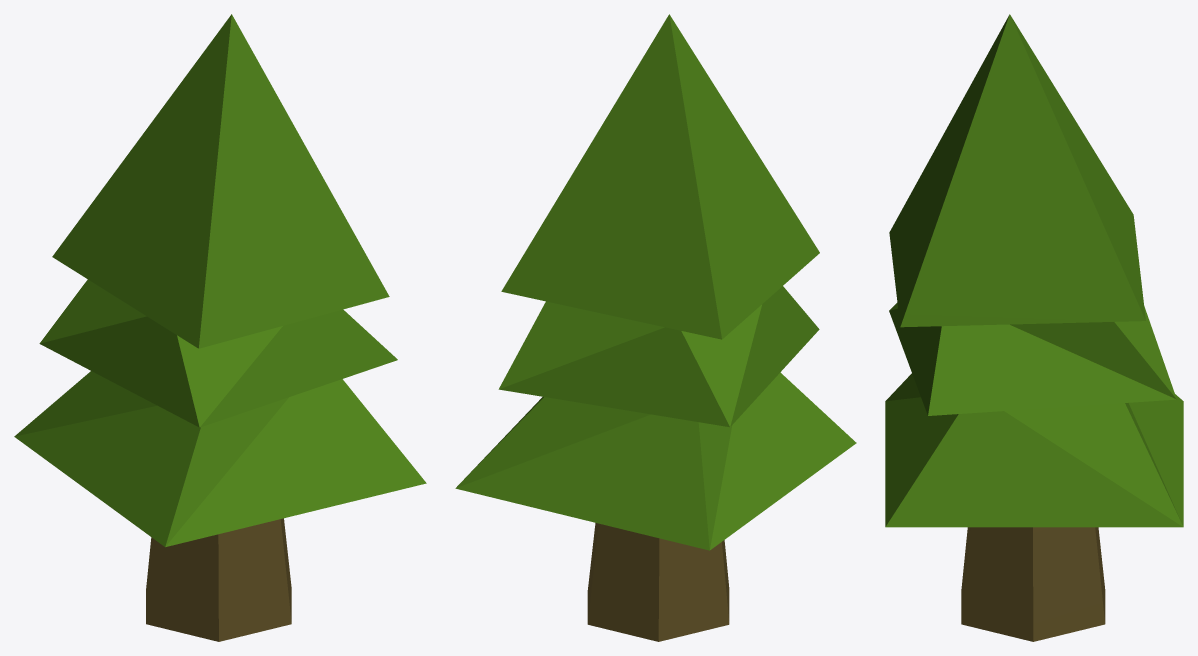
The model's file is Vegetation_Tree_Pine_Spring_01.fbx.
The picture shows the model from 3 angles, left to right: view 1: azimuth 30°, elevation 25°; view 2: azimuth 150°, elevation 25°; view 3: azimuth 270°, elevation 25°; orthographic projection. The views are drawn at different scales.
Visible parts, largest first — view 1: Vegetation_Tree_Pine_Spring_01; view 2: Vegetation_Tree_Pine_Spring_01; view 3: Vegetation_Tree_Pine_Spring_01.
Boxes of the visible parts, left/top/right/bottom form: Vegetation_Tree_Pine_Spring_01: left=14, top=14, right=426, bottom=641; Vegetation_Tree_Pine_Spring_01: left=455, top=14, right=856, bottom=641; Vegetation_Tree_Pine_Spring_01: left=885, top=14, right=1183, bottom=641.
Size of the model in its own units: 77.55 by 170 by 77.55.
